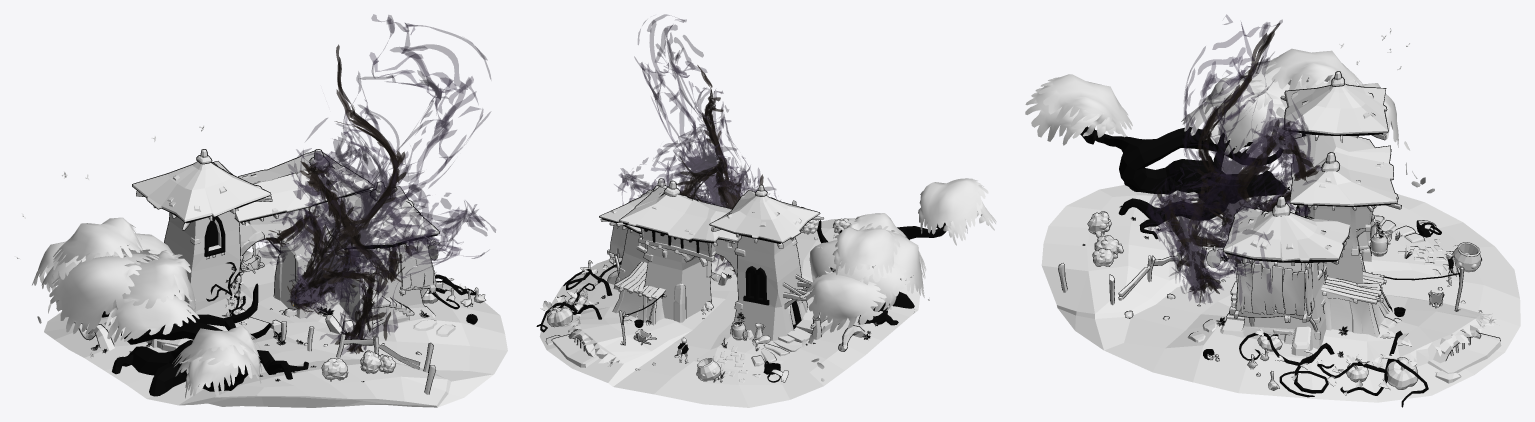
3 renders of one model, left to right at view 1: azimuth 30°, elevation 25°; view 2: azimuth 150°, elevation 25°; view 3: azimuth 270°, elevation 25°, orthographic. The views are drawn at different scales.
Parts seen in each view (by area): view 1: ground, monster 001, tree leaves, piedras, roof, outline, monster, tree leaves inv, madera, dec; view 2: ground, piedras, tree leaves, monster 001, roof, outline, madera, tree leaves inv, dec, monster; view 3: ground, outline, monster 001, roof, tree leaves, madera, piedras, monster, dec, tree leaves inv.
Boxes of the visible parts, left/top/right/bottom form: ground: left=44, top=243, right=507, bottom=407; monster 001: left=258, top=14, right=495, bottom=354; tree leaves: left=32, top=217, right=261, bottom=398; piedras: left=145, top=197, right=455, bottom=355; roof: left=75, top=149, right=439, bottom=396; outline: left=74, top=149, right=485, bottom=396; monster: left=262, top=44, right=416, bottom=354; tree leaves inv: left=34, top=218, right=260, bottom=396; madera: left=136, top=191, right=442, bottom=394; dec: left=14, top=125, right=485, bottom=382; ground: left=539, top=218, right=919, bottom=407; piedras: left=546, top=228, right=832, bottom=382; tree leaves: left=802, top=178, right=996, bottom=381; monster 001: left=614, top=14, right=780, bottom=274; roof: left=599, top=179, right=866, bottom=351; outline: left=536, top=178, right=946, bottom=382; madera: left=601, top=200, right=827, bottom=382; tree leaves inv: left=801, top=179, right=995, bottom=381; dec: left=540, top=178, right=929, bottom=382; monster: left=676, top=65, right=769, bottom=274; ground: left=1041, top=175, right=1520, bottom=402; outline: left=1058, top=71, right=1500, bottom=407; monster 001: left=1145, top=14, right=1328, bottom=305; roof: left=1223, top=72, right=1397, bottom=261; tree leaves: left=1025, top=48, right=1434, bottom=193; madera: left=1058, top=97, right=1463, bottom=337; piedras: left=1125, top=134, right=1501, bottom=383; monster: left=1156, top=22, right=1319, bottom=303; dec: left=1083, top=28, right=1496, bottom=395; tree leaves inv: left=1026, top=49, right=1432, bottom=192.
Size of what is drawn, in the model's own units: 24 by 22.64 by 18.53.
